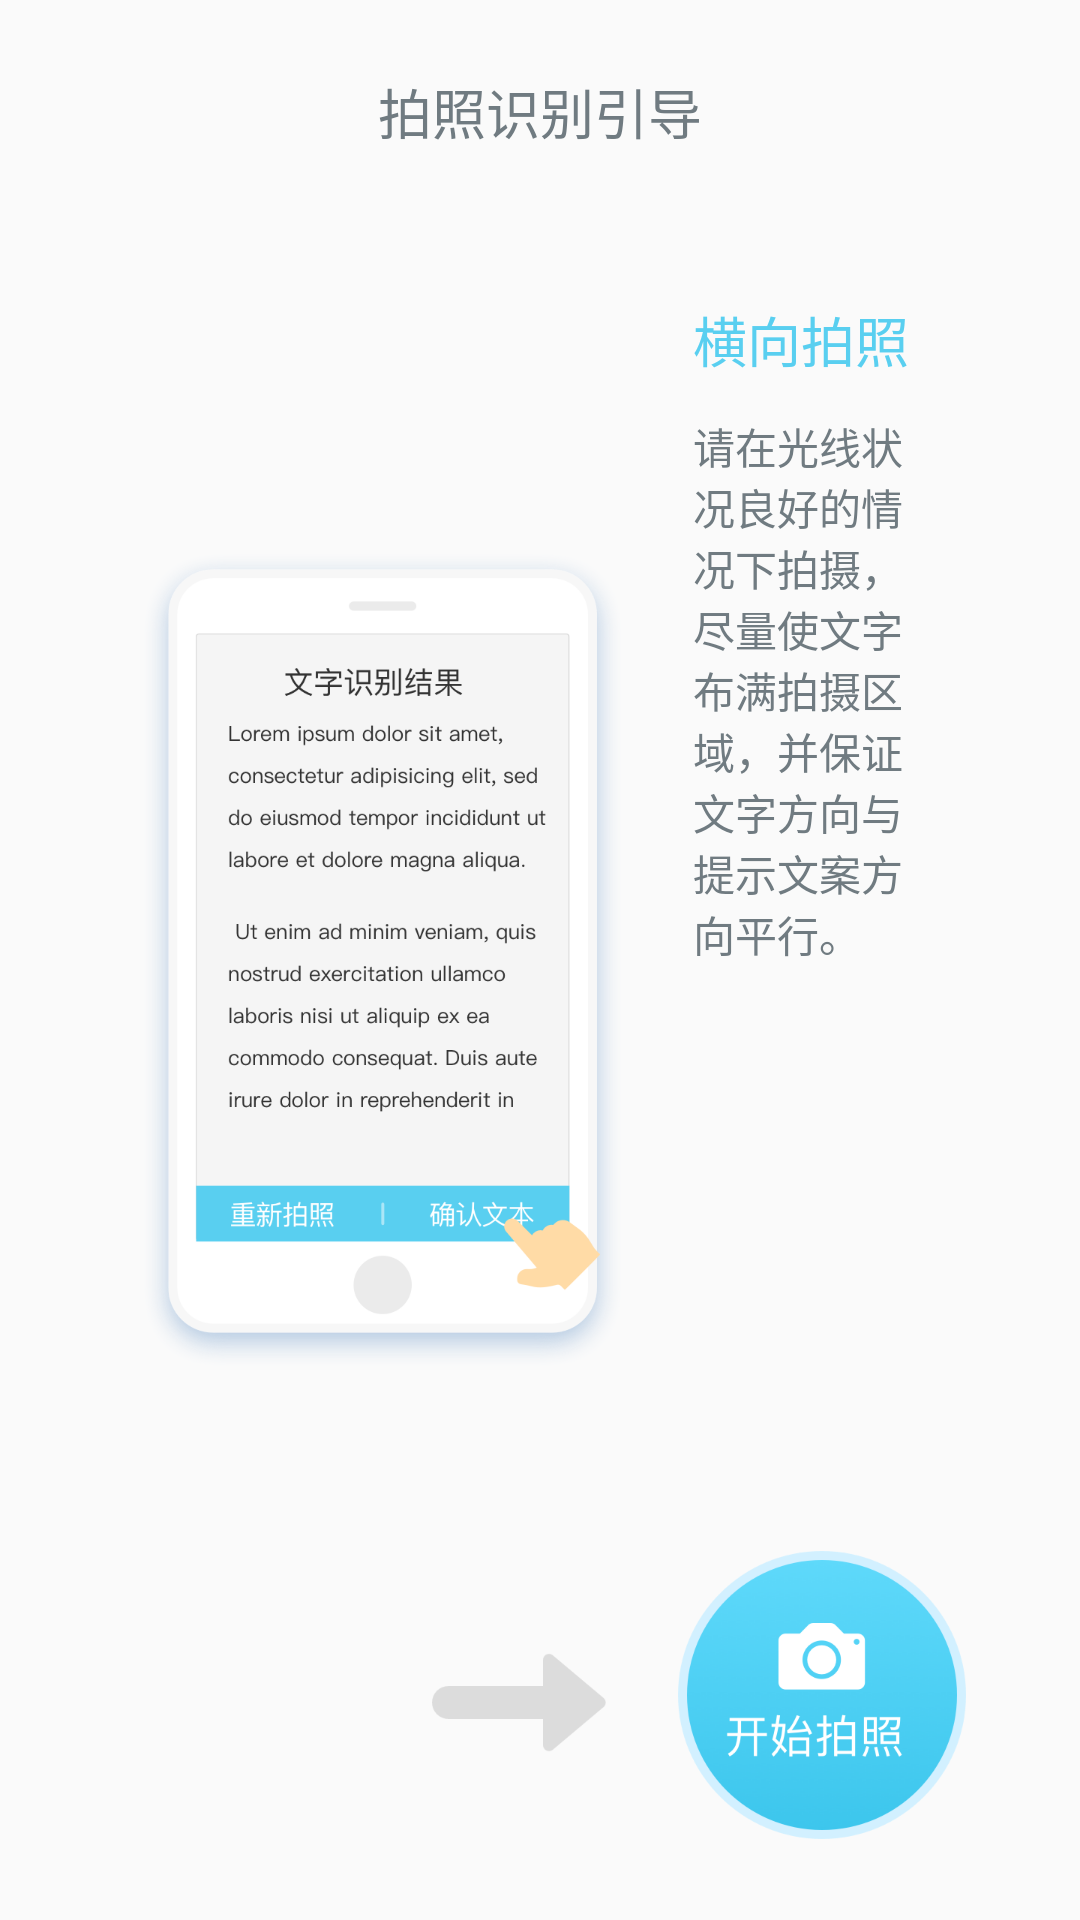

Locate icon controls on the screen. Image size 1080x1920, boxes as region(x1, y1, x2, y2).
guide arrow: region(432, 1654, 605, 1751)
